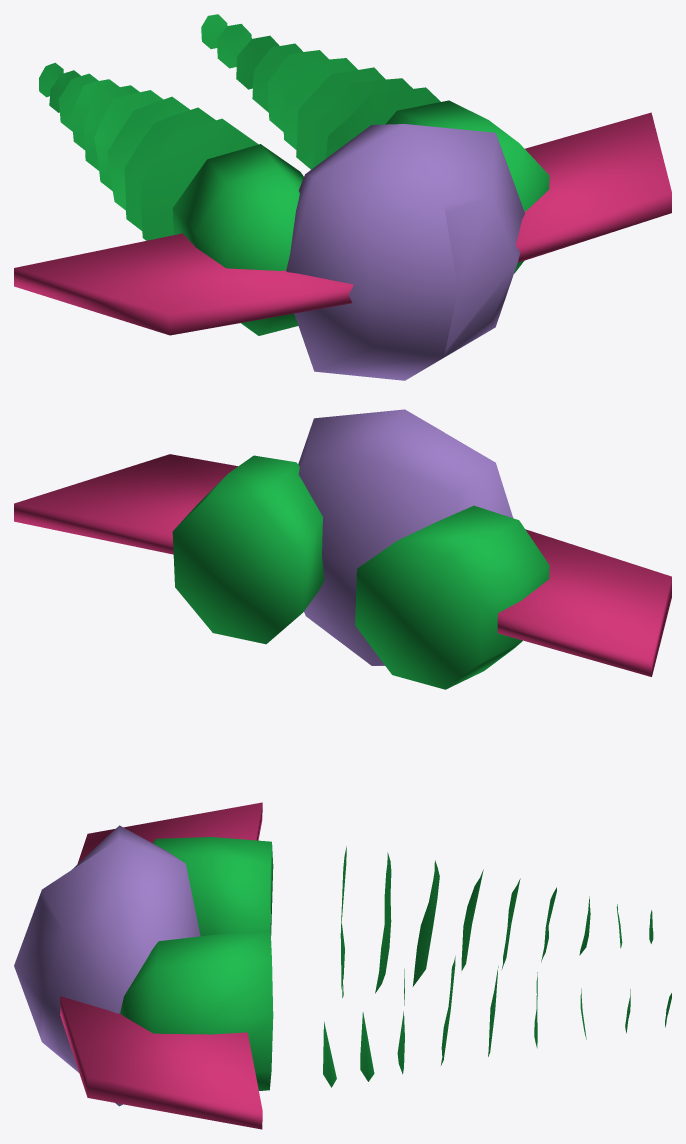
The model's file is ship_15.gltf.
3 renders of one model, top to bottom at view 1: azimuth 30°, elevation 25°; view 2: azimuth 150°, elevation 25°; view 3: azimuth 270°, elevation 25°, orthographic.
Parts seen in each view (by area): view 1: gtlf; view 2: gtlf; view 3: gtlf.
Boxes of the visible parts, <box> form: gtlf: <box>14,14,671,380</box>; gtlf: <box>14,409,671,689</box>; gtlf: <box>14,802,671,1129</box>.
Bounding box in the file's own units: 2.08 × 0.8024 × 1.88.
